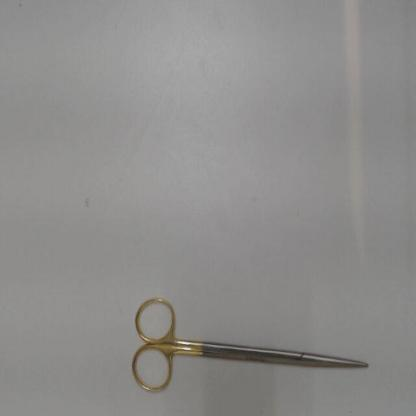7 Metzenbaum Scissors: (131, 295, 368, 396)
